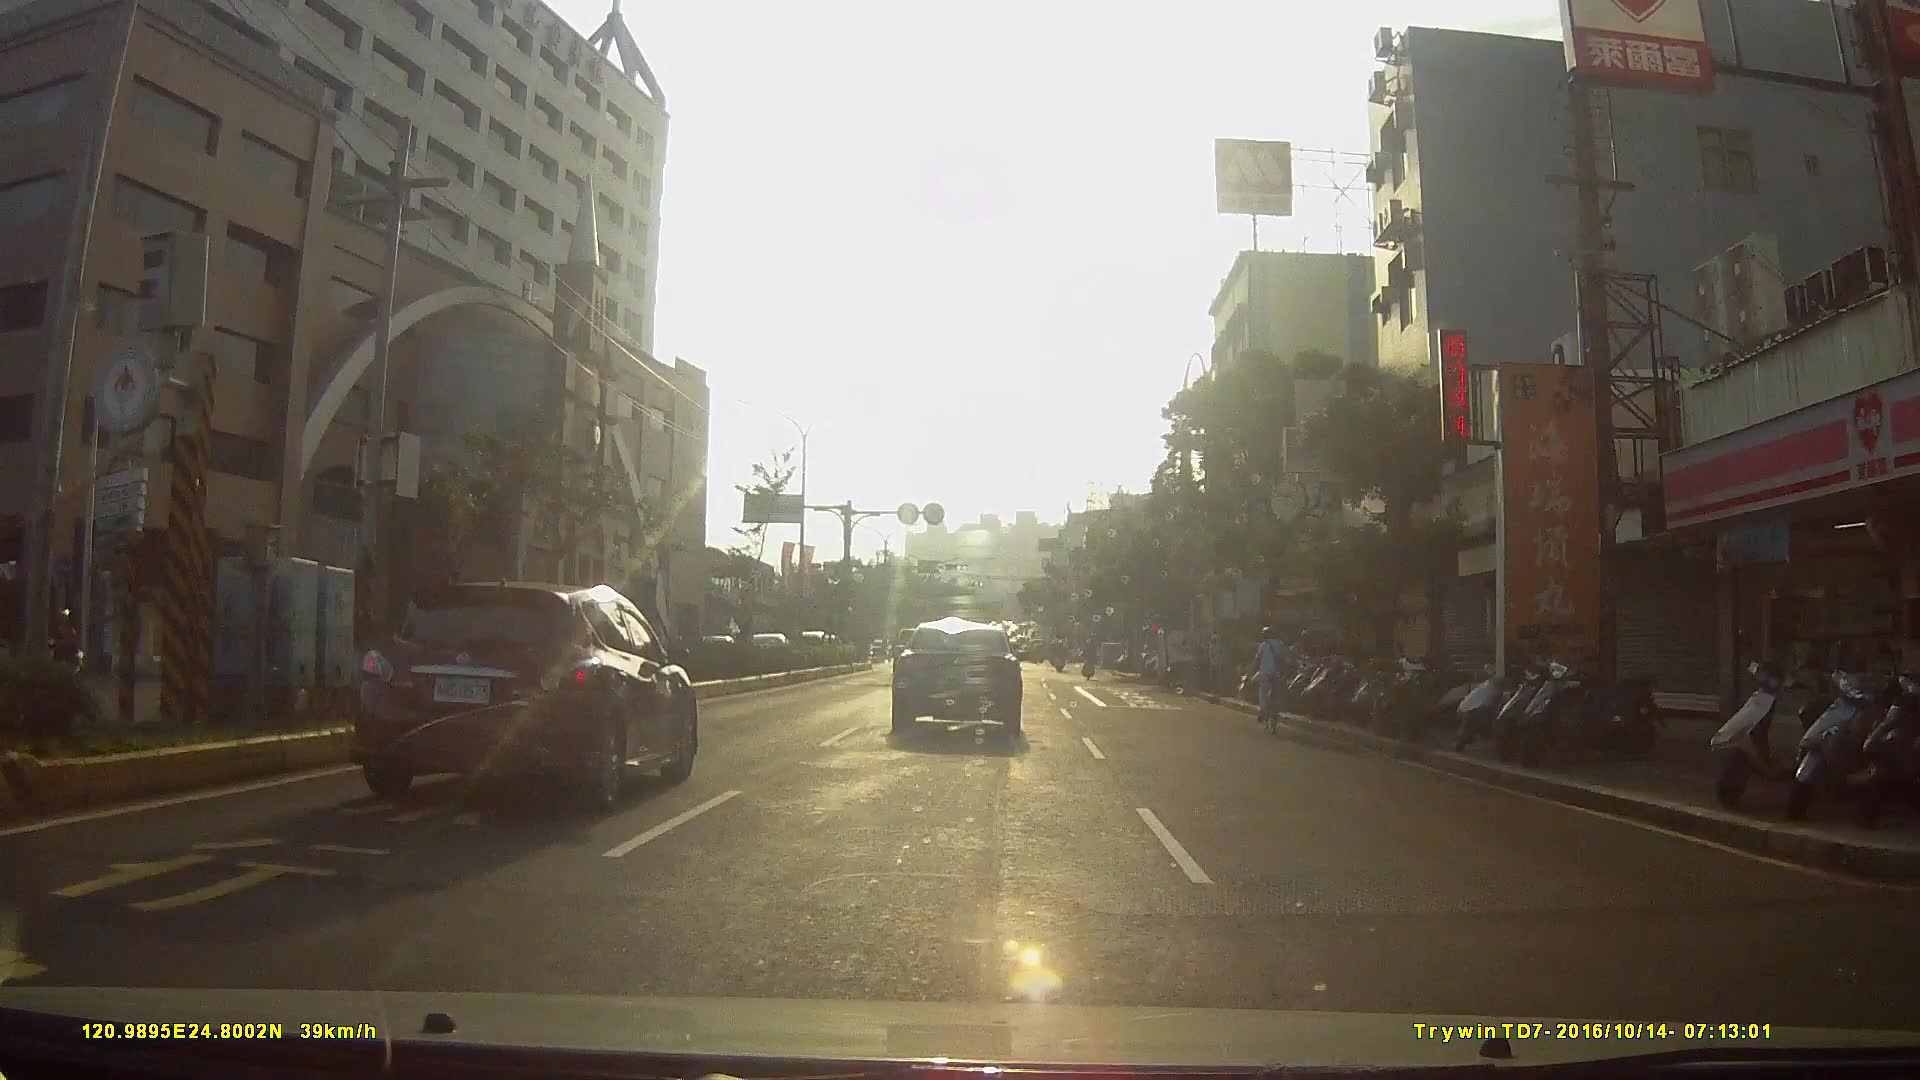rider: (22, 604, 97, 709), (1250, 626, 1293, 736)
vehicle: (350, 575, 712, 813), (886, 614, 1037, 748), (1152, 621, 1219, 687), (763, 607, 822, 662)
